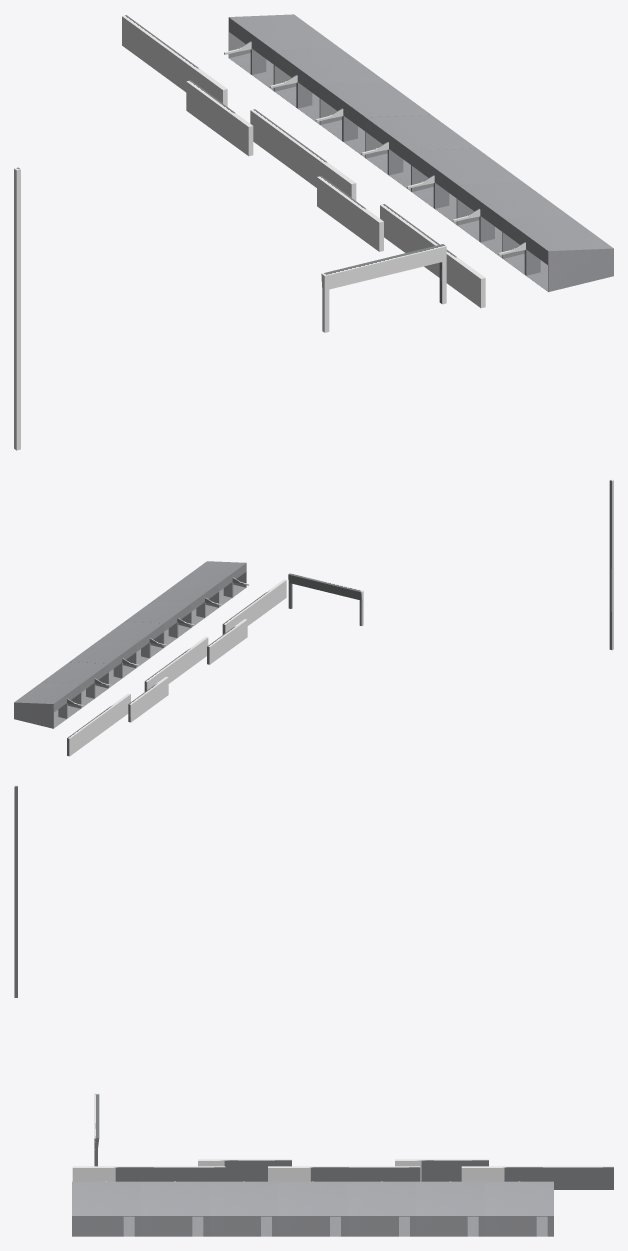
Rendered from costruzioni.obj.
3 renders of one model, top to bottom at view 1: azimuth 30°, elevation 25°; view 2: azimuth 150°, elevation 25°; view 3: azimuth 270°, elevation 25°, orthographic. The views are drawn at different scales.
Visible parts, largest first — view 1: Pit_7_Cube.006, Pit_1_Cube, Pit_4_Cube.003, Pit_3_Cube.002, Pit_5_Cube.004, Pit_6_Cube.005, Pit_2_Cube.001, Cube.115_Cube.144, Cube.116_Cube.145, Cube.138_Cube.167, Cube.117_Cube.146, Cube.118_Cube.147 (+2 smaller); view 2: Pit_1_Cube, Pit_3_Cube.002, Pit_2_Cube.001, Pit_7_Cube.006, Pit_5_Cube.004, Pit_4_Cube.003, Pit_6_Cube.005, Cube.116_Cube.145, Cube.117_Cube.146, Cube.115_Cube.144, Cube.138_Cube.167, Cube.119_Cube.148 (+2 smaller); view 3: Pit_4_Cube.003, Pit_6_Cube.005, Pit_5_Cube.004, Pit_1_Cube, Pit_2_Cube.001, Pit_3_Cube.002, Pit_7_Cube.006, Cube.116_Cube.145, Cube.117_Cube.146, Cube.115_Cube.144, Cube.119_Cube.148, Cube.118_Cube.147 (+1 smaller).
Boxes of the visible parts, x1,y1,x2,y2 form: Pit_7_Cube.006: (502,215,613,291); Pit_1_Cube: (228,14,339,91); Pit_4_Cube.003: (365,114,476,191); Pit_3_Cube.002: (320,81,430,157); Pit_5_Cube.004: (411,148,521,224); Pit_6_Cube.005: (457,181,567,258); Pit_2_Cube.001: (274,48,384,124); Cube.115_Cube.144: (250,109,356,200); Cube.116_Cube.145: (122,15,227,106); Cube.138_Cube.167: (321,244,446,332); Cube.117_Cube.146: (380,204,485,308); Cube.118_Cube.147: (186,80,253,156); Pit_1_Cube: (14,682,81,728); Pit_3_Cube.002: (69,642,136,687); Pit_2_Cube.001: (42,662,108,708); Pit_7_Cube.006: (180,561,246,607); Pit_5_Cube.004: (125,601,191,647); Pit_4_Cube.003: (97,621,163,667); Pit_6_Cube.005: (152,581,218,627); Cube.116_Cube.145: (67,693,130,756); Cube.117_Cube.146: (222,579,286,634); Cube.115_Cube.144: (144,636,208,691); Cube.138_Cube.167: (288,573,363,625); Cube.119_Cube.148: (207,619,247,664); Pit_4_Cube.003: (278,1181,347,1236); Pit_6_Cube.005: (140,1181,209,1236); Pit_5_Cube.004: (209,1181,278,1236); Pit_1_Cube: (485,1181,553,1236); Pit_2_Cube.001: (416,1181,484,1236); Pit_3_Cube.002: (347,1181,415,1236); Pit_7_Cube.006: (72,1181,140,1236); Cube.116_Cube.145: (461,1166,613,1189); Cube.117_Cube.146: (72,1166,225,1181); Cube.115_Cube.144: (268,1166,420,1181); Cube.119_Cube.148: (198,1159,291,1181); Cube.118_Cube.147: (395,1159,488,1181).
Bounding box in the file's own units: 71.51 × 31.15 × 77.55.
Materials: 9 (9 with a texture image).
